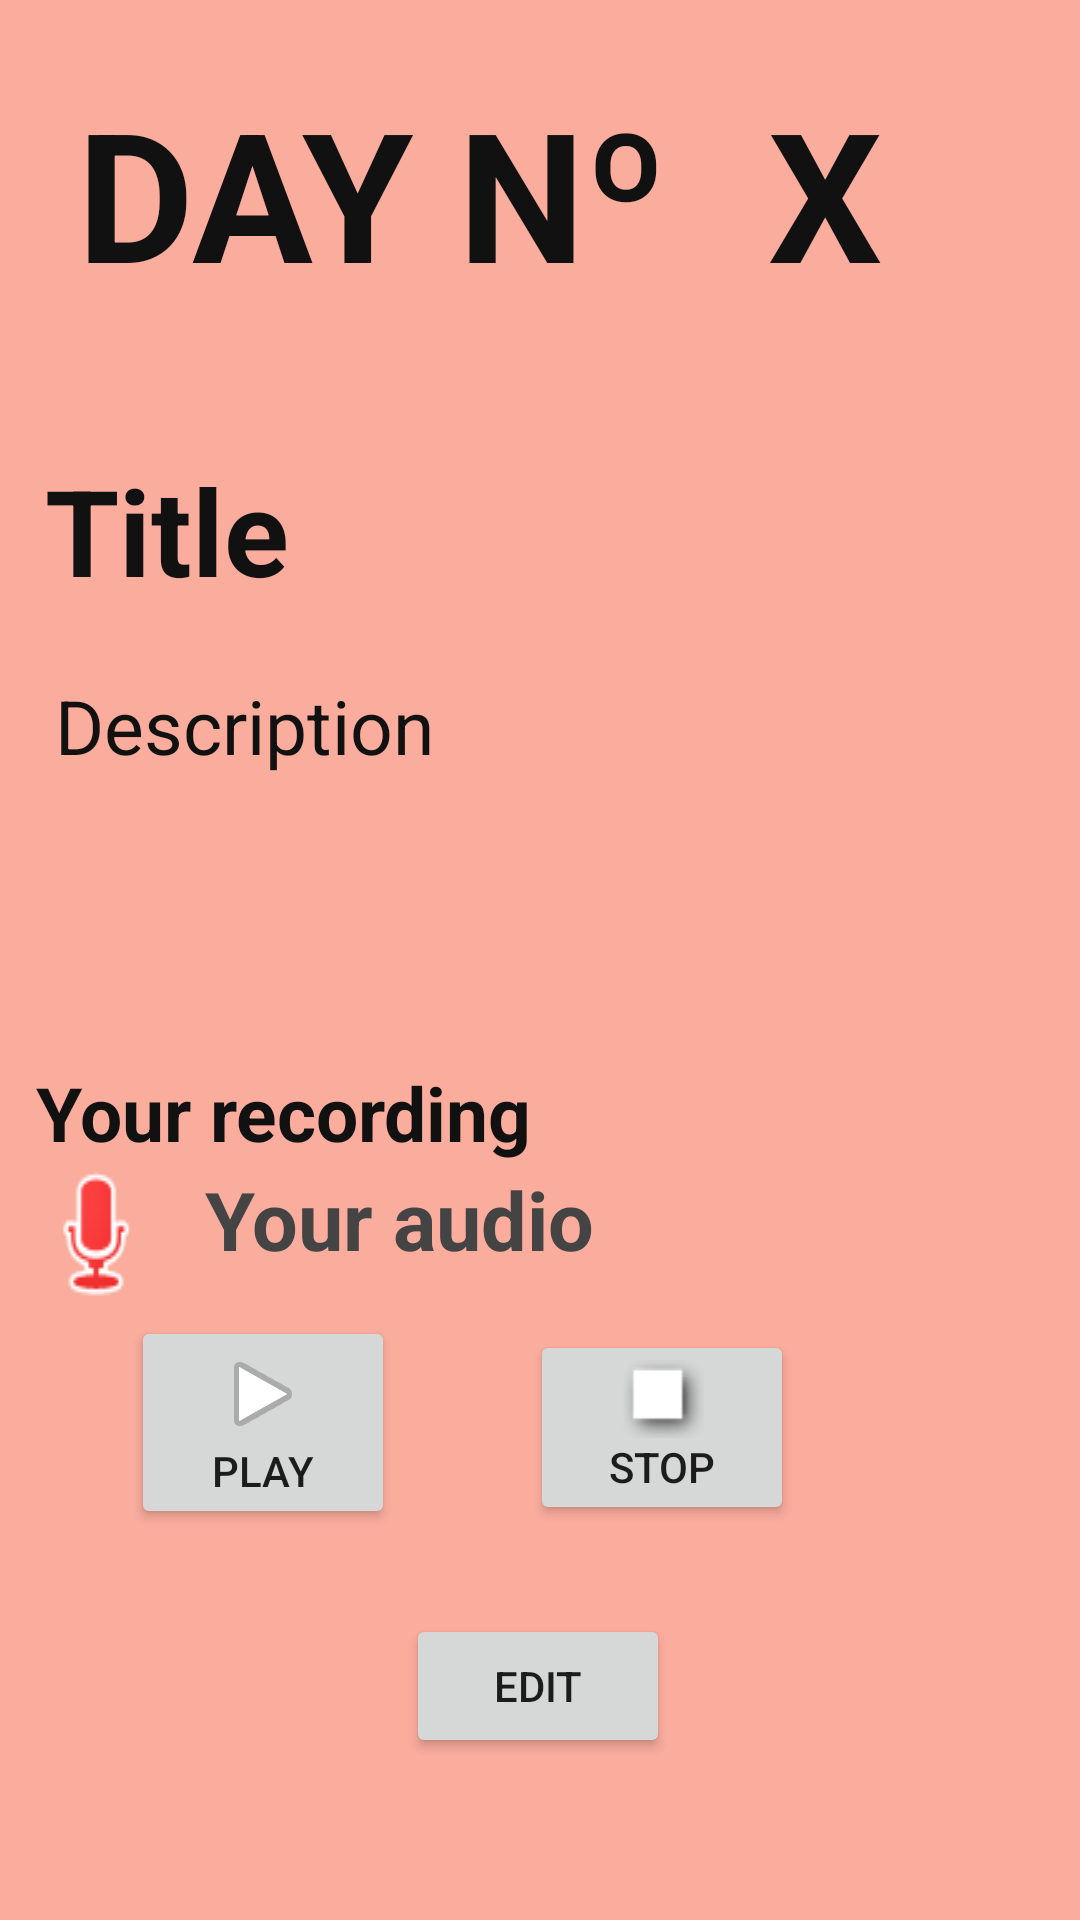

Point at icon controls on the screen. Image size 1080 × 1920, points as [x,y].
presence audio busy: [96,1234]
